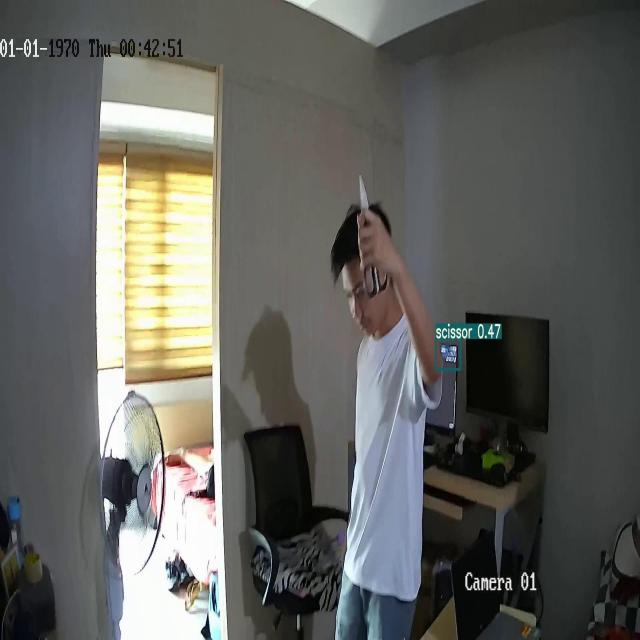scissor: (359, 172, 389, 298)
